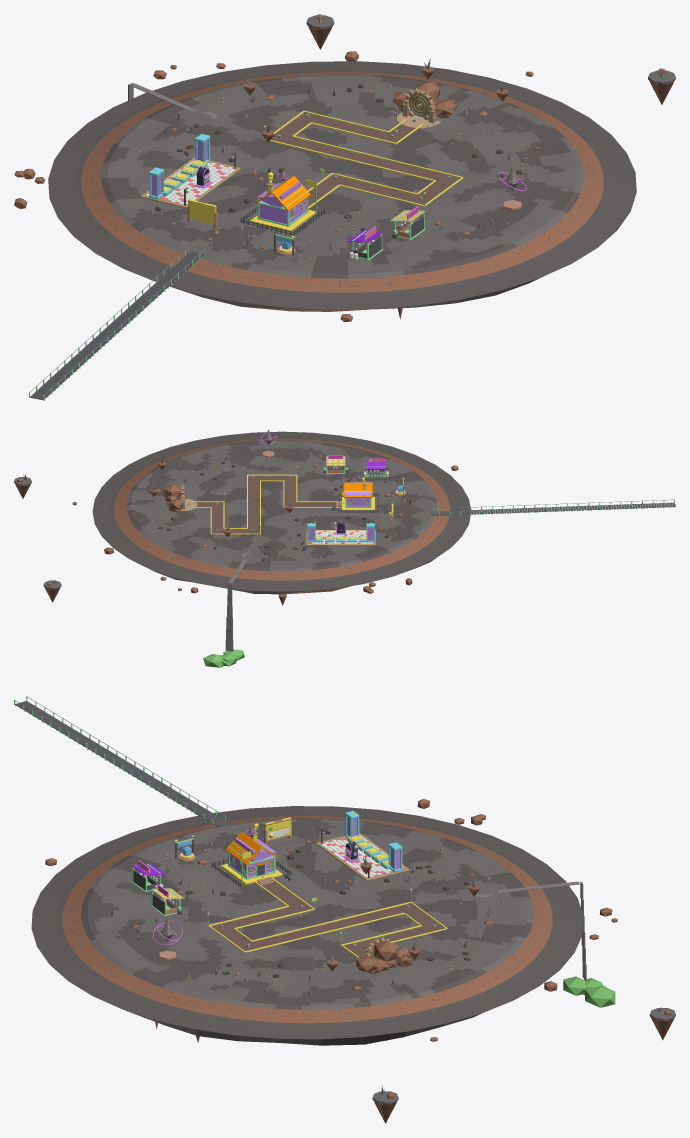
File: Isla6_Cristal.obj
3 views of the same model, one above another, from view 1: azimuth 30°, elevation 25°; view 2: azimuth 150°, elevation 25°; view 3: azimuth 270°, elevation 25° (orthographic). The views are drawn at different scales.
Parts seen in each view (by area): view 1: Isla6_Cristal_Terreno, Isla6_Cristal_Casa, Isla6_Cristal_Palanca_Zona, Isla6_Cristal_Base_Flotante, Isla6_Cristal_Portal, Isla6_Cristal_Equipamientos_Puesto, Isla6_Cristal_Tienda_Puesto, Isla6_Cristal_Mejoras_Marco, Isla6_Cristal_Detalles_11, Isla6_Cristal_Detalles_12; view 2: Isla6_Cristal_Terreno, Isla6_Cristal_Casa, Isla6_Cristal_Base_Flotante, Isla6_Cristal_Palanca_Zona, Isla6_Cristal_Portal, Isla6_Cristal_Detalles_7, Isla6_Cristal_Detalles_6, Isla6_Cristal_Equipamientos_Puesto, Isla6_Cristal_Tienda_Puesto; view 3: Isla6_Cristal_Terreno, Isla6_Cristal_Base_Flotante, Isla6_Cristal_Casa, Isla6_Cristal_Palanca_Zona, Isla6_Cristal_Portal, Isla6_Cristal_Detalles_6, Isla6_Cristal_Detalles_7, Isla6_Cristal_Tienda_Puesto, Isla6_Cristal_Equipamientos_Puesto.
Boxes of the visible parts, bbox=[...] form: Isla6_Cristal_Terreno: bbox=[49, 61, 635, 309]; Isla6_Cristal_Casa: bbox=[240, 170, 324, 236]; Isla6_Cristal_Palanca_Zona: bbox=[141, 133, 240, 208]; Isla6_Cristal_Base_Flotante: bbox=[48, 61, 636, 311]; Isla6_Cristal_Portal: bbox=[392, 82, 456, 128]; Isla6_Cristal_Equipamientos_Puesto: bbox=[348, 226, 383, 260]; Isla6_Cristal_Tienda_Puesto: bbox=[390, 206, 425, 239]; Isla6_Cristal_Mejoras_Marco: bbox=[187, 199, 216, 228]; Isla6_Cristal_Detalles_11: bbox=[648, 67, 675, 104]; Isla6_Cristal_Detalles_12: bbox=[306, 15, 334, 49]; Isla6_Cristal_Terreno: bbox=[93, 432, 470, 591]; Isla6_Cristal_Casa: bbox=[336, 474, 379, 513]; Isla6_Cristal_Base_Flotante: bbox=[92, 431, 471, 594]; Isla6_Cristal_Palanca_Zona: bbox=[306, 521, 375, 545]; Isla6_Cristal_Portal: bbox=[163, 484, 197, 511]; Isla6_Cristal_Detalles_7: bbox=[203, 628, 237, 667]; Isla6_Cristal_Detalles_6: bbox=[223, 559, 246, 660]; Isla6_Cristal_Equipamientos_Puesto: bbox=[363, 458, 388, 477]; Isla6_Cristal_Tienda_Puesto: bbox=[323, 455, 348, 473]; Isla6_Cristal_Terreno: bbox=[32, 806, 582, 1038]; Isla6_Cristal_Base_Flotante: bbox=[31, 806, 583, 1045]; Isla6_Cristal_Casa: bbox=[211, 823, 291, 888]; Isla6_Cristal_Palanca_Zona: bbox=[316, 811, 409, 880]; Isla6_Cristal_Portal: bbox=[356, 936, 412, 974]; Isla6_Cristal_Detalles_6: bbox=[497, 881, 586, 995]; Isla6_Cristal_Detalles_7: bbox=[582, 947, 615, 1007]; Isla6_Cristal_Tienda_Puesto: bbox=[151, 884, 184, 916]; Isla6_Cristal_Equipamientos_Puesto: bbox=[131, 860, 164, 892].
Bounding box in the file's own units: 231 × 45.71 × 168.
1 material, 1 textured.
